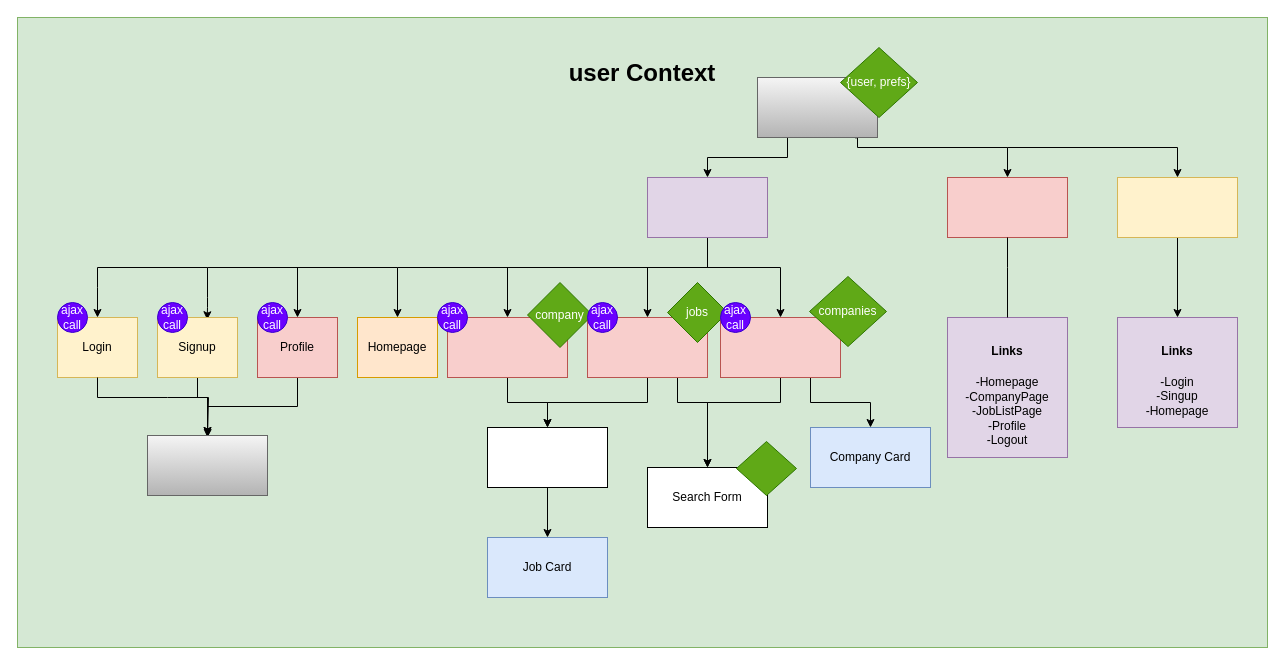
This 1285x665 diagram has some shape labels left out. The box of each missing label's shape, as (x1, y1, x2, y2) in pixels:
Alert: (146, 434, 268, 496)
App: (756, 76, 878, 138)
Companies List Page: (720, 316, 840, 378)
Company Details Page: (446, 316, 568, 378)
Form Data: (736, 440, 796, 496)
Job List: (486, 426, 608, 488)
Job List Page: (586, 316, 708, 378)
navbar (logged In): (946, 176, 1068, 238)
navbar (logged Out): (1116, 176, 1238, 238)
Route List: (646, 176, 768, 238)
